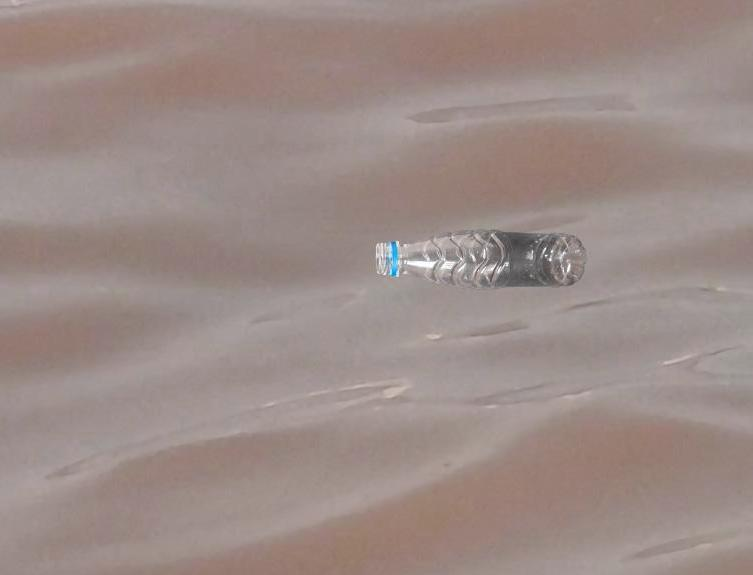Plastic: (372, 228, 589, 295)
